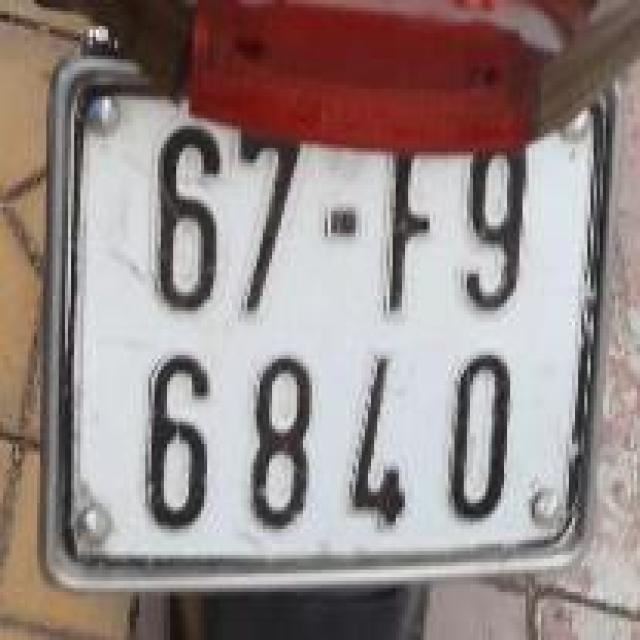0: (437, 344, 521, 544)
4: (346, 350, 424, 542)
6: (139, 98, 223, 327), (137, 338, 215, 538)
7: (235, 102, 315, 324)
8: (246, 348, 320, 544)
9: (454, 118, 528, 322)
F: (372, 126, 438, 329)
